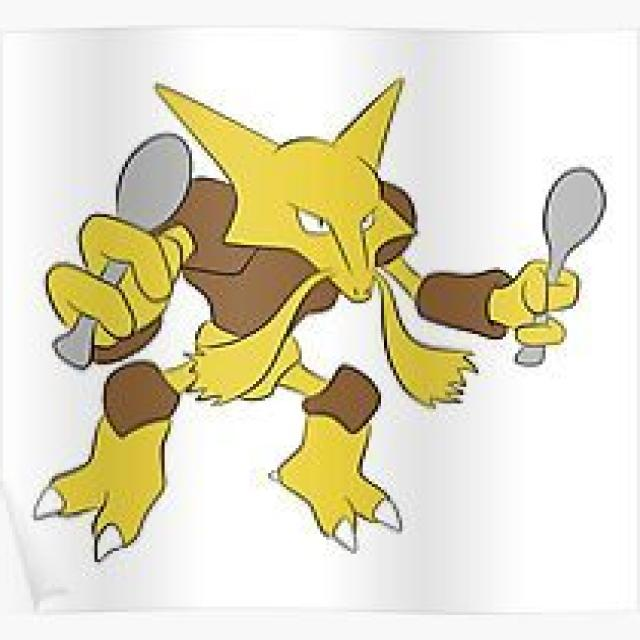Alakazam: (59, 80, 448, 538)
